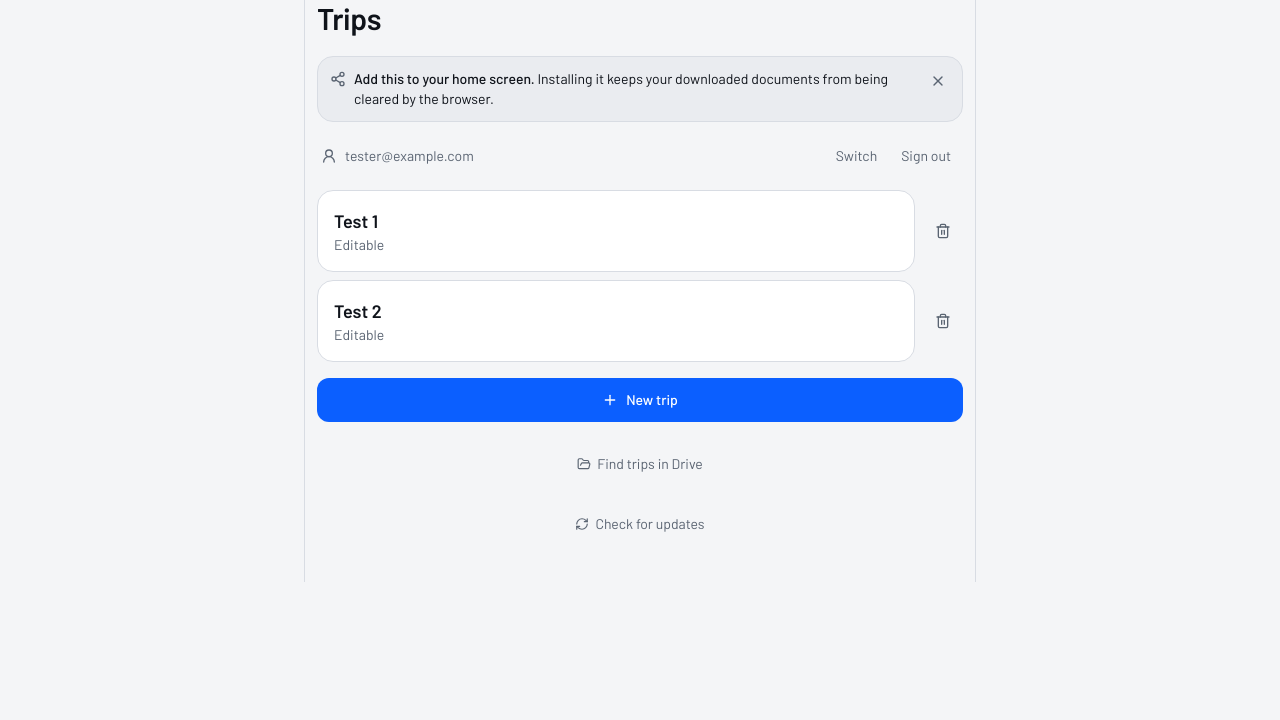
deleting a trip › cancelling leaves the trip alone
What coordinates should you click on to do the following:
click the button named "Delete Test 1"
I would click on:
 (943, 231)
Its box is [923, 211, 963, 251].
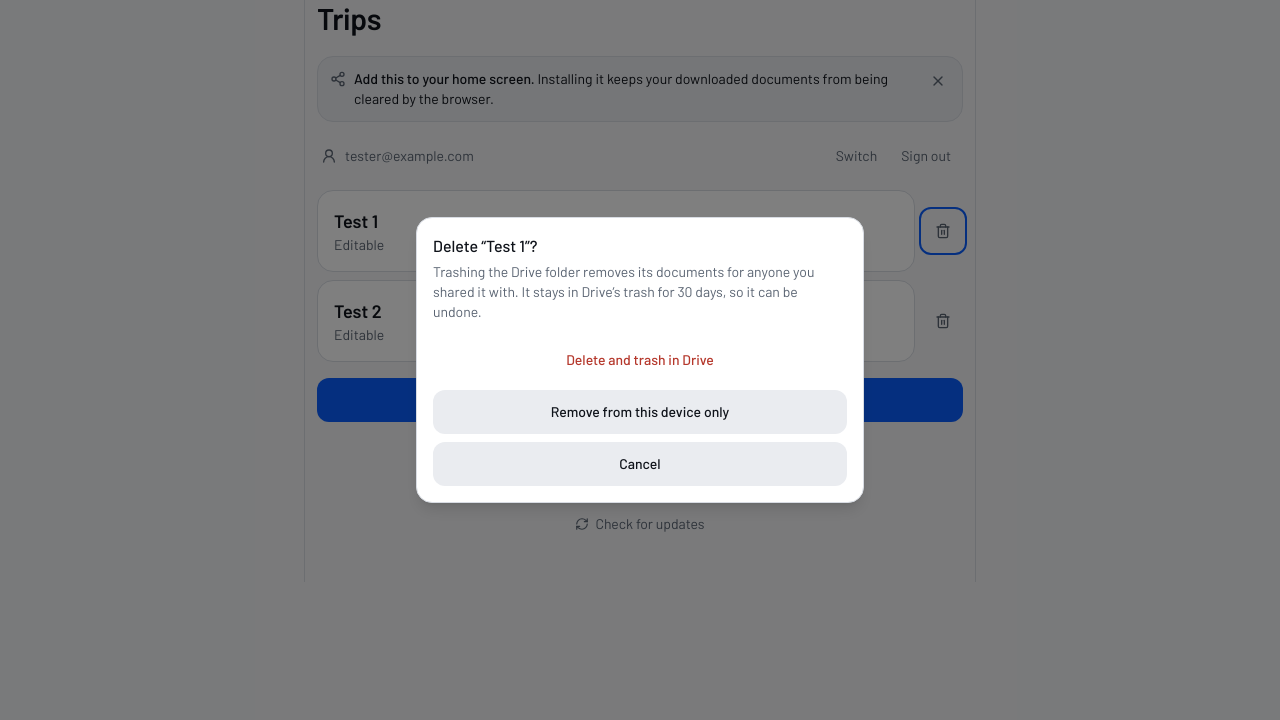
What coordinates should you click on to do the following:
click the button "Cancel"
I would click on:
 (640, 464)
Its box is [433, 442, 847, 486].
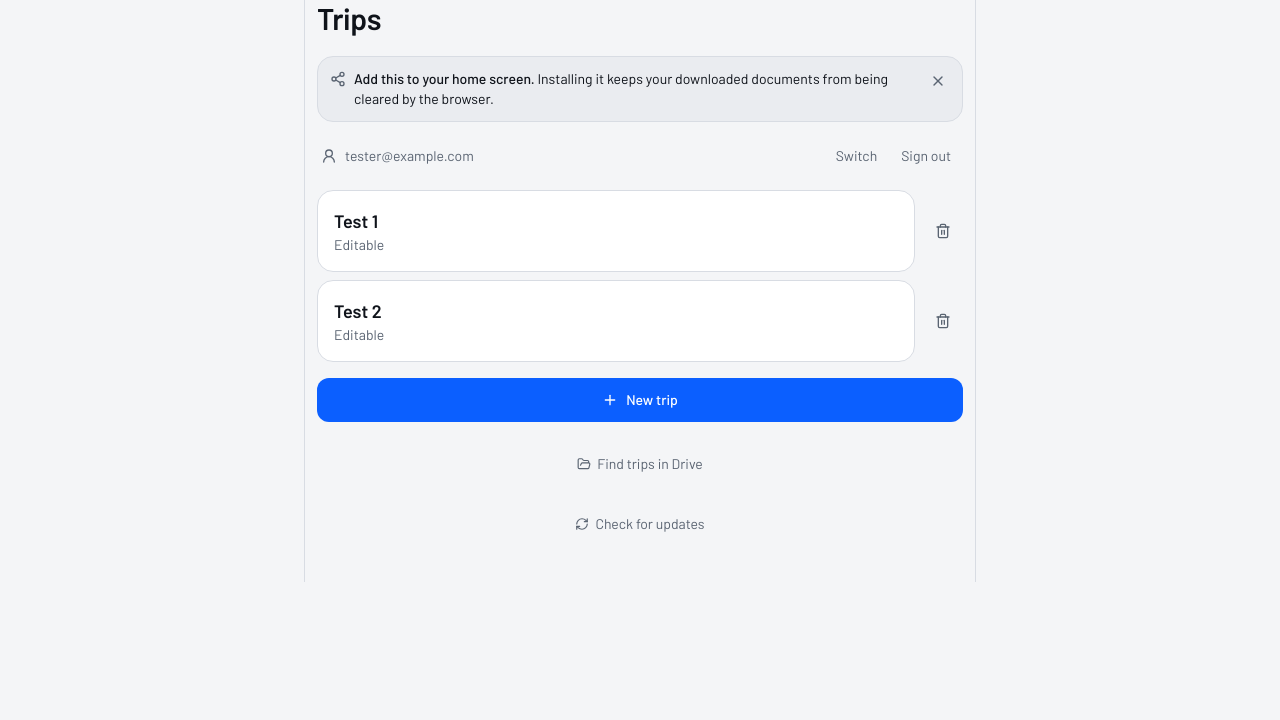
Expected: the text "Test 1" is shown, [334, 210, 378, 232]
Now the dialog is gone
